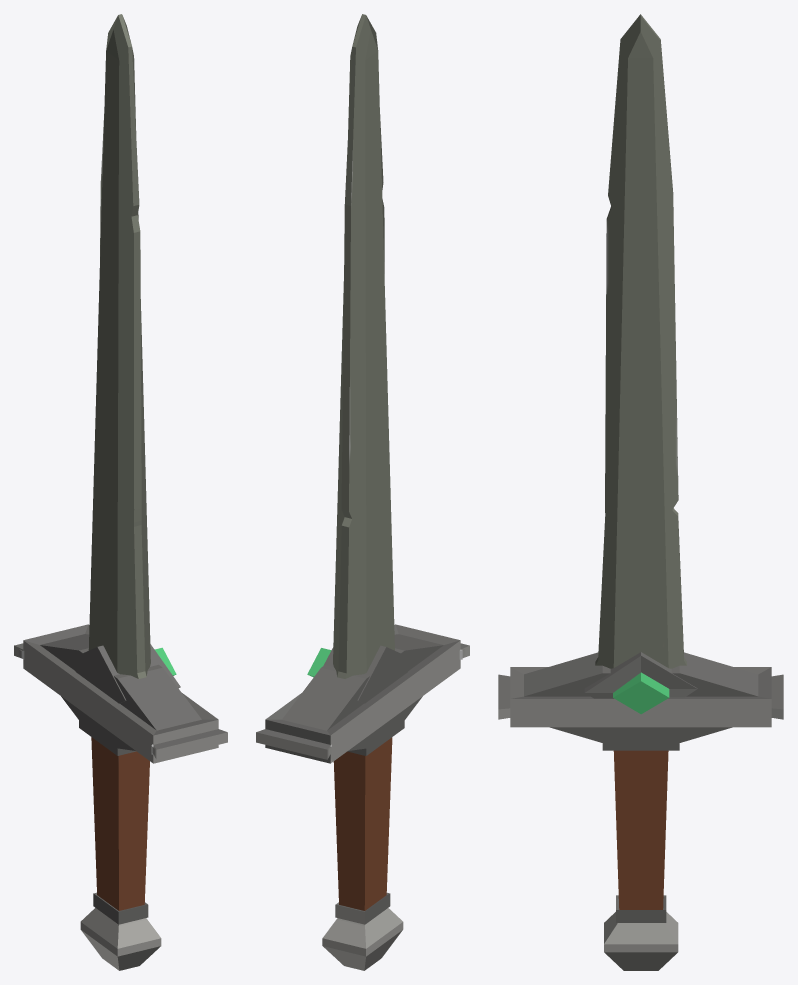
The model's file is BasicSwordColoured.fbx.
3 views of the same model, side by side, from view 1: azimuth 30°, elevation 25°; view 2: azimuth 150°, elevation 25°; view 3: azimuth 270°, elevation 25° (orthographic).
Parts seen in each view (by area): view 1: Plane; view 2: Plane; view 3: Plane.
Part boxes in pixels (x1,y1,x2,y2): Plane: (14, 14, 227, 970); Plane: (256, 14, 469, 970); Plane: (498, 14, 783, 970).
Bounding box in the file's own units: 40.75 × 477 × 130.
Materials: 1 (1 with a texture image).
